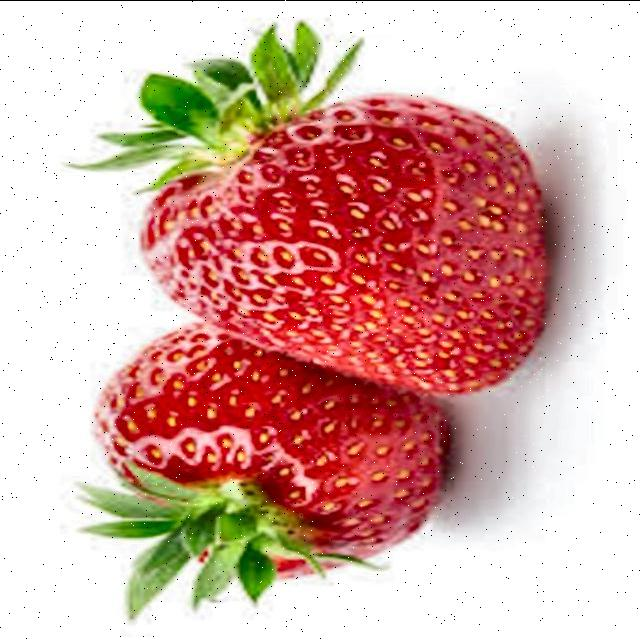strawberry: (78, 24, 546, 394), (84, 324, 449, 616)
